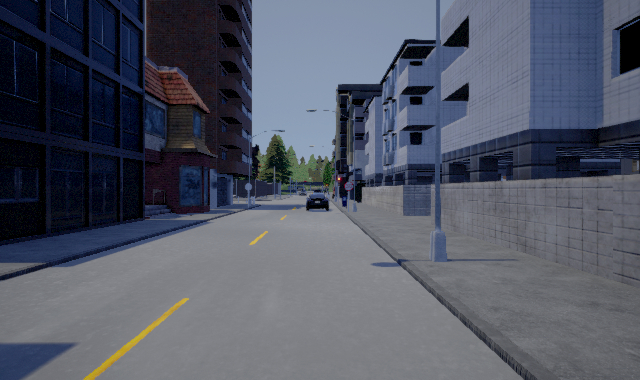traffic_sign: (344, 182, 353, 191)
vehicle: (306, 192, 329, 211)
